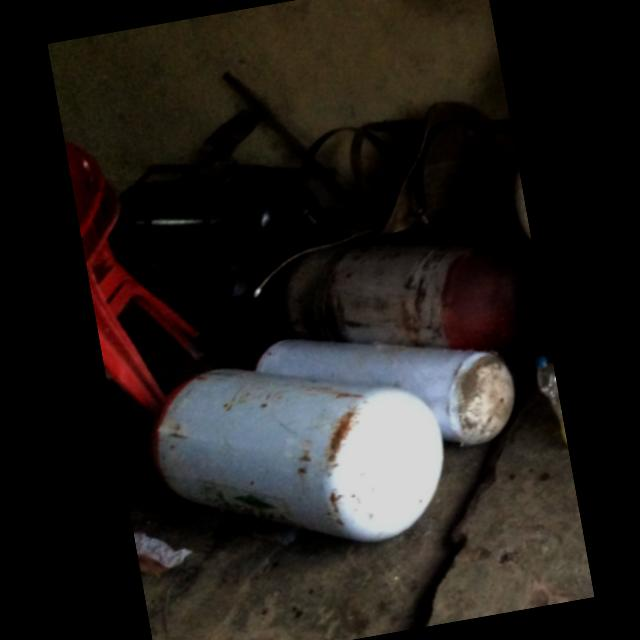Cylinders: (141, 365, 445, 542), (273, 245, 521, 350)
